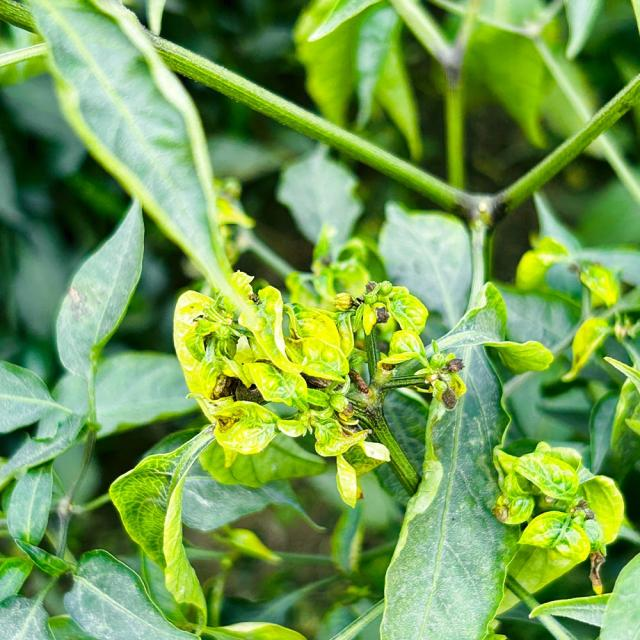Chilli_Leaf_Curl: (1, 1, 638, 638), (19, 0, 253, 317), (171, 268, 465, 507), (378, 280, 553, 639), (492, 440, 624, 565), (333, 278, 428, 338)
